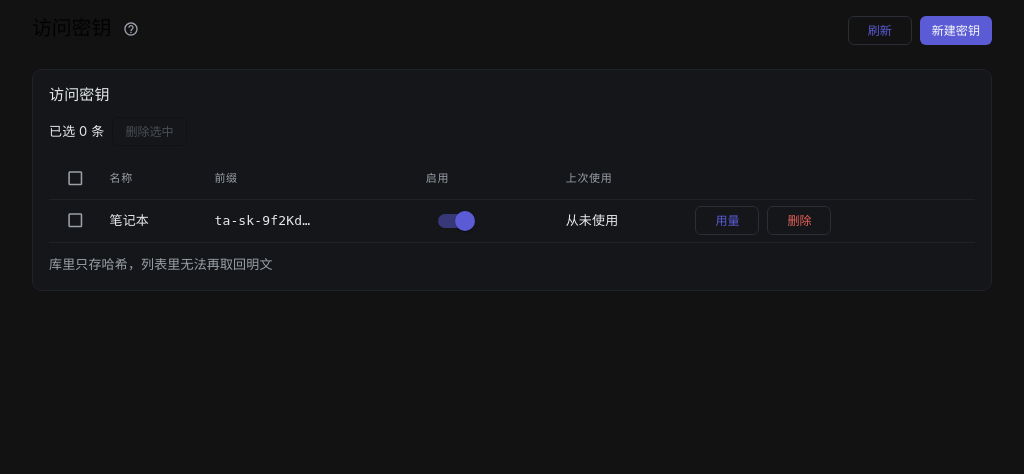
Test case: [硬要求] 明文只在创建时出现一次，点「我已保存」后从界面上消失 › 创建失败：把后端原文显示出来，并且**不给**任何明文
Expected: the element with test id "api-keys-page" is shown, [0,69,1023,323]
Click the button with test id "api-keys-create". click: (956, 31)
box: [920,16,992,45]
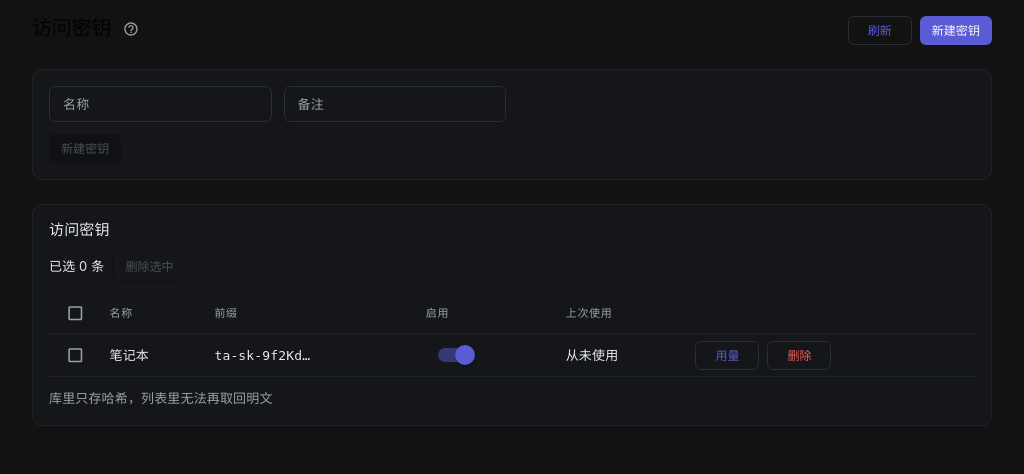
Type "重复" into the field labelled "名称". click: (160, 104)
box: [49,86,272,122]
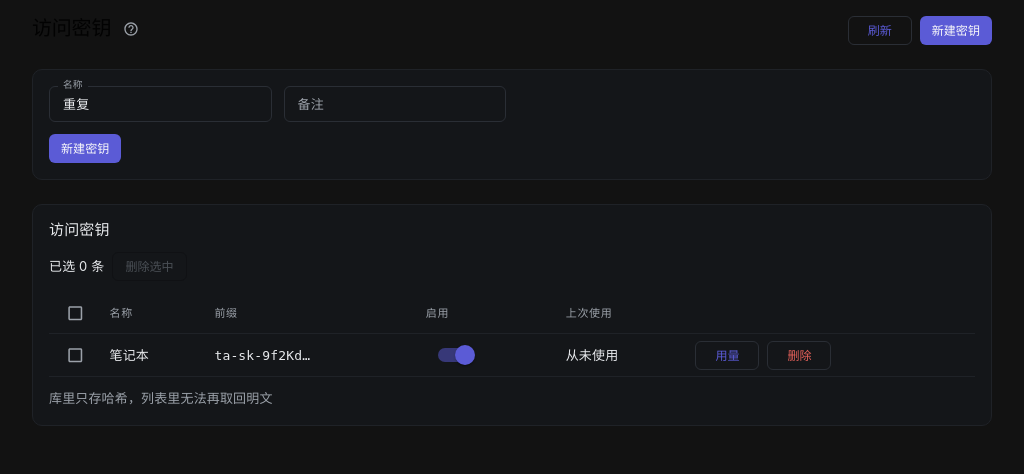
Click the button with test id "api-keys-create-submit". click: (85, 148)
box: [49,134,121,163]
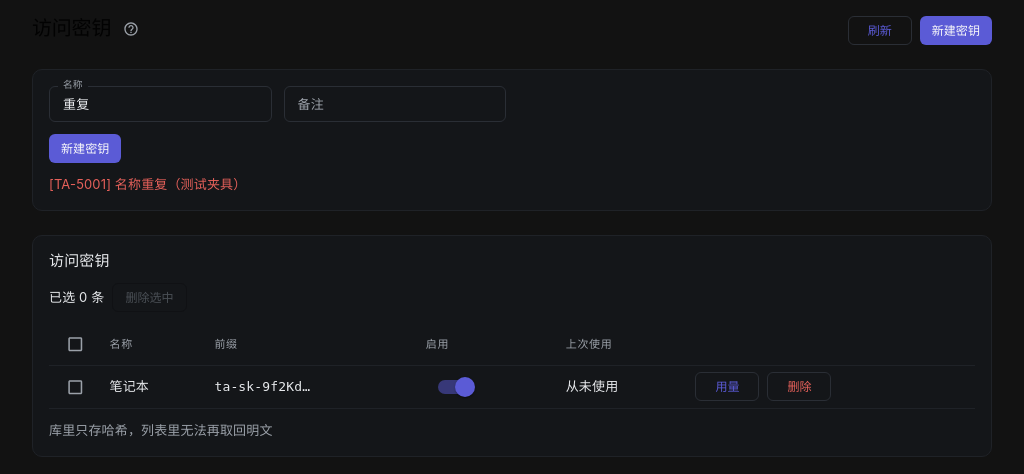
Expected: the text with test id "api-keys-create-error" shows "[TA-5001]", [49,176,246,192]
